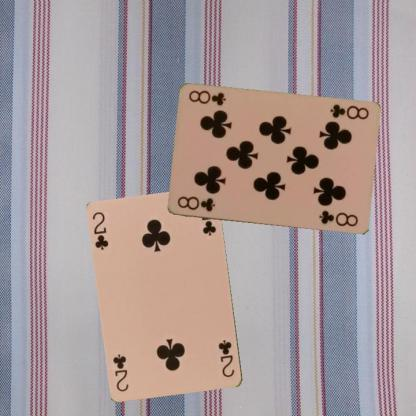2c: (216, 337, 236, 379), (90, 209, 110, 251)
8c: (327, 102, 370, 121), (175, 194, 216, 213)
